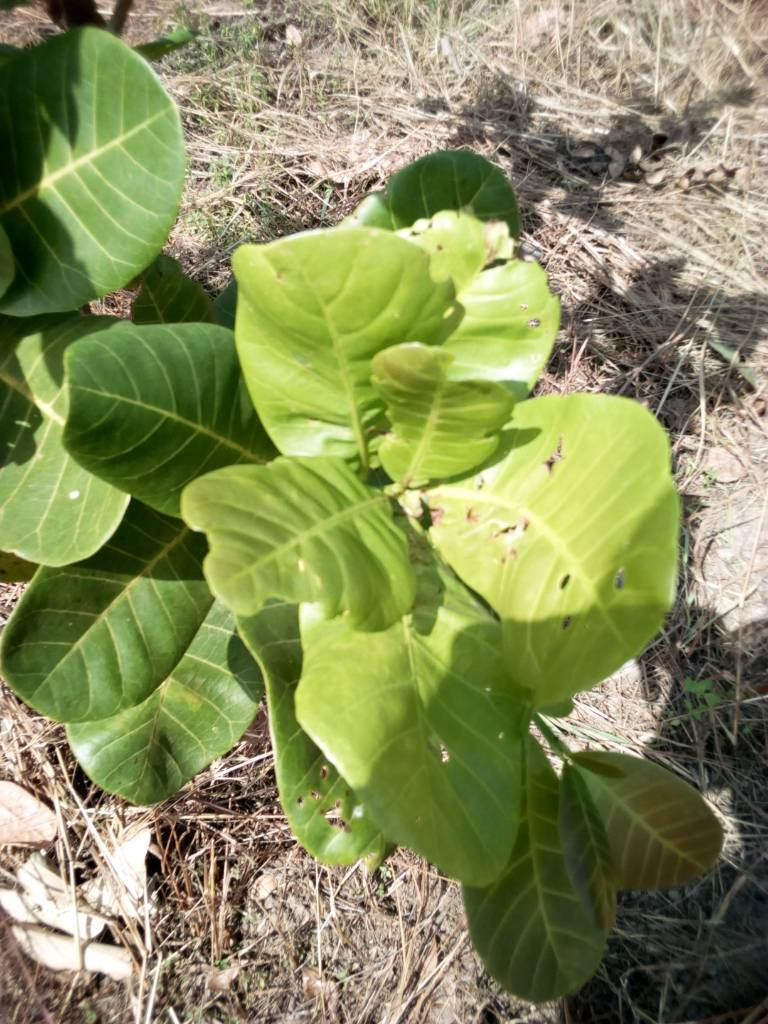Helopeltis anacardii: (196, 447, 411, 625), (368, 347, 516, 472)
